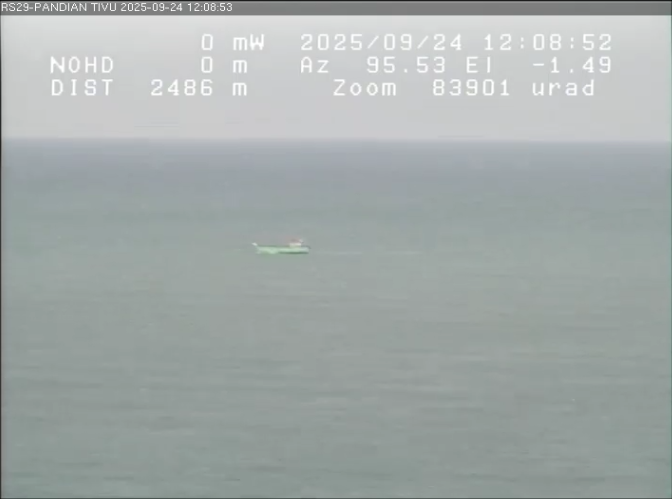FISHING_BOAT: (236, 229, 365, 290)
